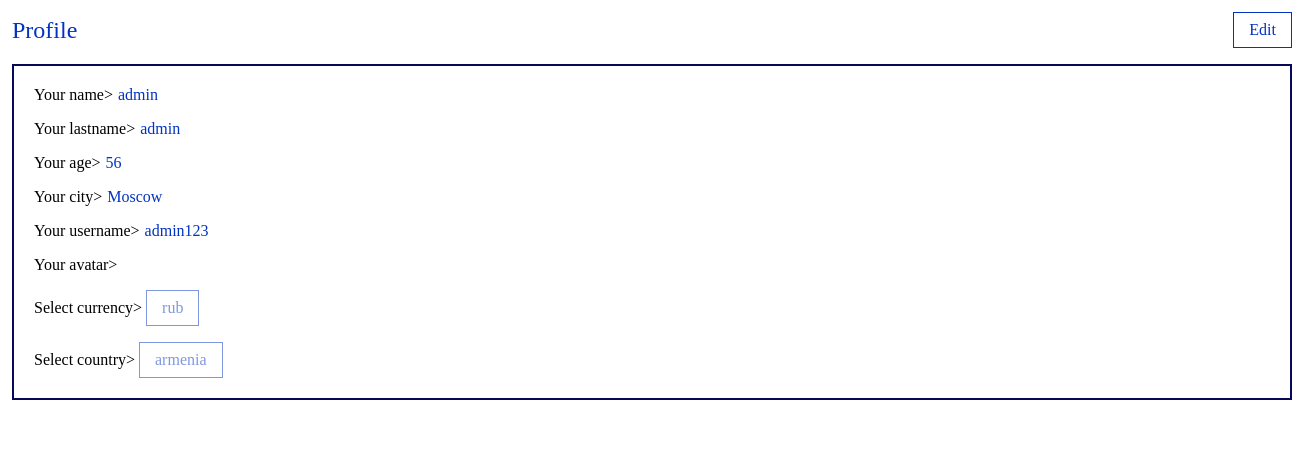
Test: EditableProfileCard › Должна появиться ошибка
The image size is (1304, 457).
Click the button with test id "editable-profile-card-header.edit-button" at (1263, 30), box [1233,12,1292,48]
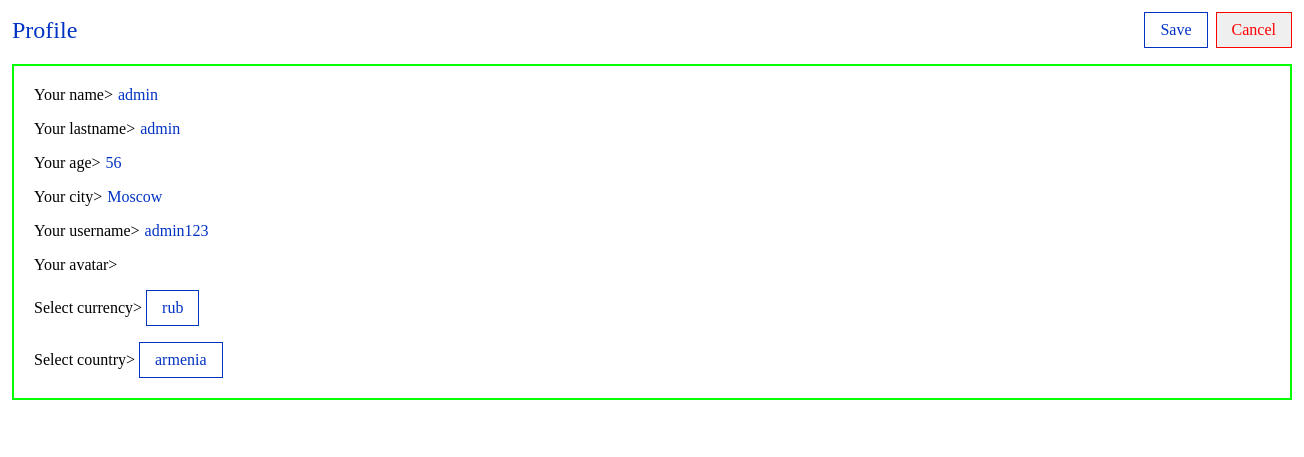
Clear the field with test id "profile-card.first-name" at (218, 95), box [118,86,318,104]
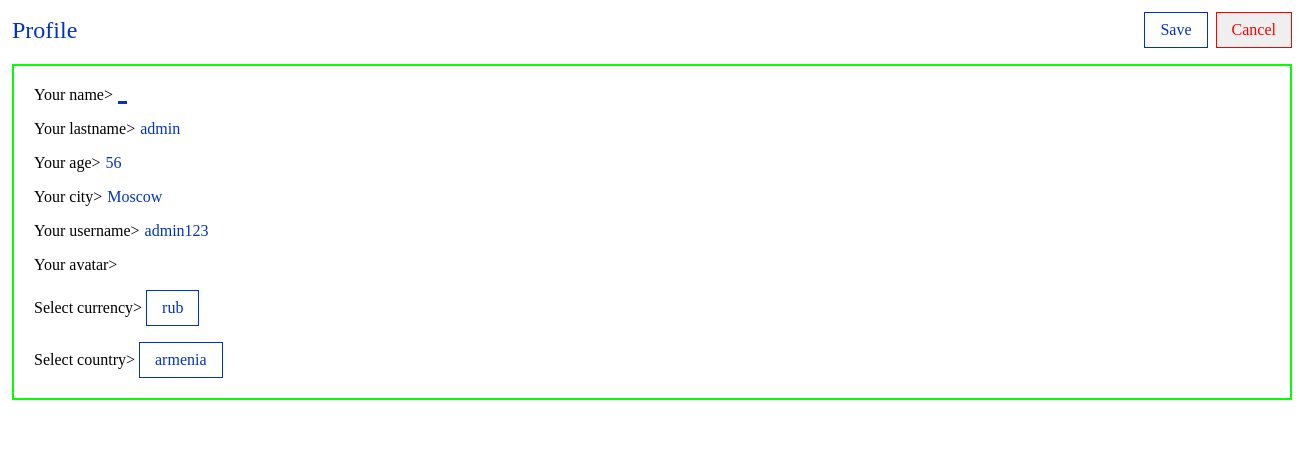
Click the button with test id "editable-profile-card-header.save-button" at (1176, 30), box [1144,12,1208,48]
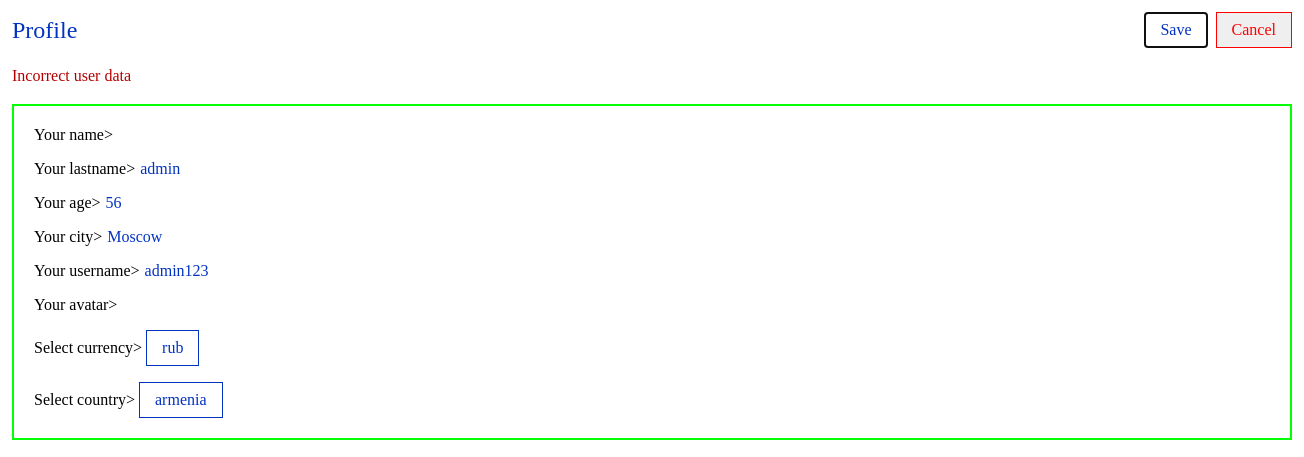
Check: the text "Incorrect user data" is shown, box [12,64,131,88]
